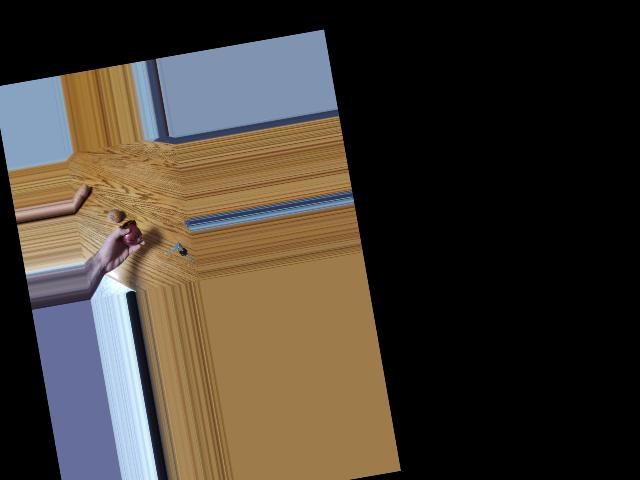onion: (120, 223, 143, 247)
